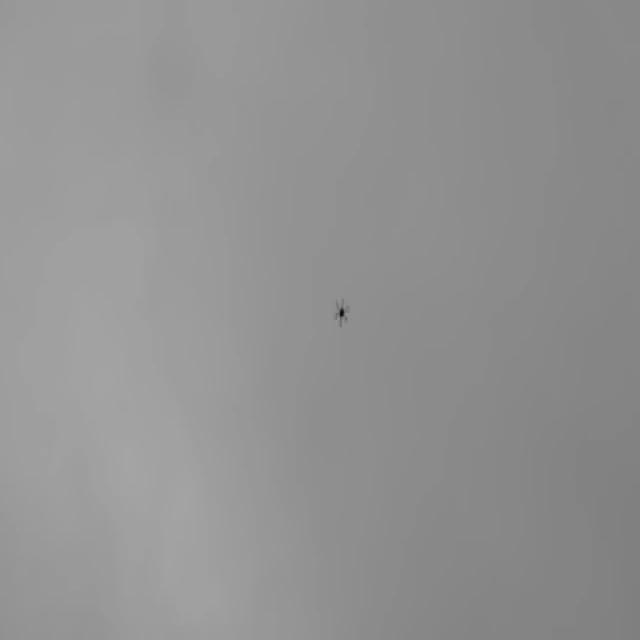drone: (328, 289, 356, 331)
